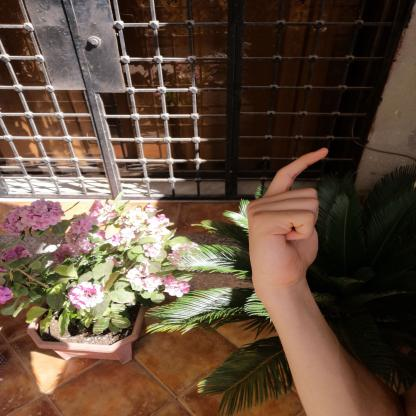RAA: (235, 137, 337, 298)
